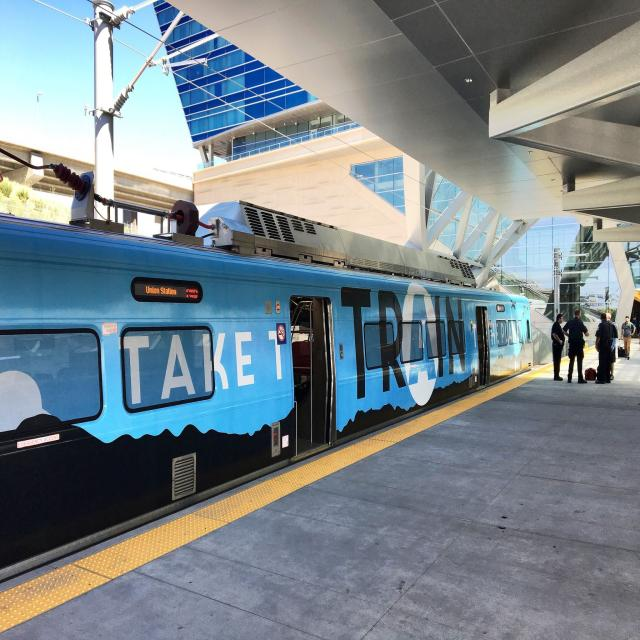body: (561, 308, 590, 385), (594, 312, 614, 384), (551, 313, 565, 381), (605, 312, 618, 382), (620, 316, 636, 360), (629, 313, 640, 347)
